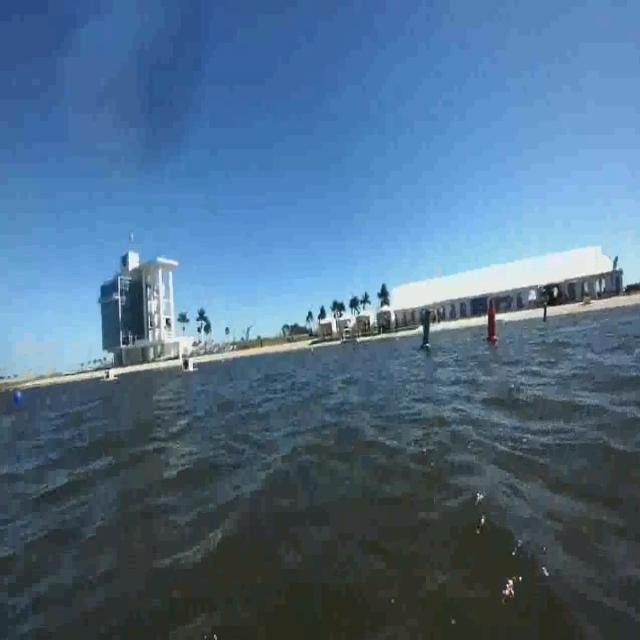blue-buoy: (13, 384, 24, 405)
green-column-buoy: (422, 302, 433, 357)
red-column-buoy: (486, 306, 500, 346)
